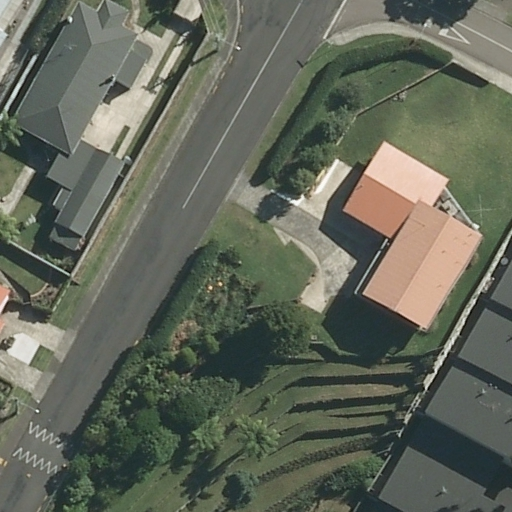DT: (3, 389, 30, 421), (206, 26, 231, 57)
